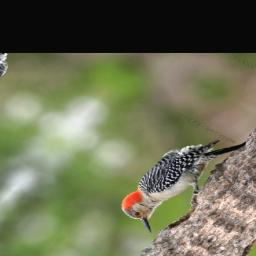Woodpecker: (101, 109, 256, 242)
